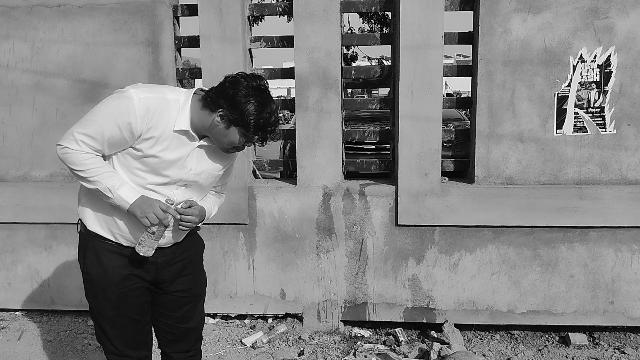spit: (197, 67, 342, 274)
